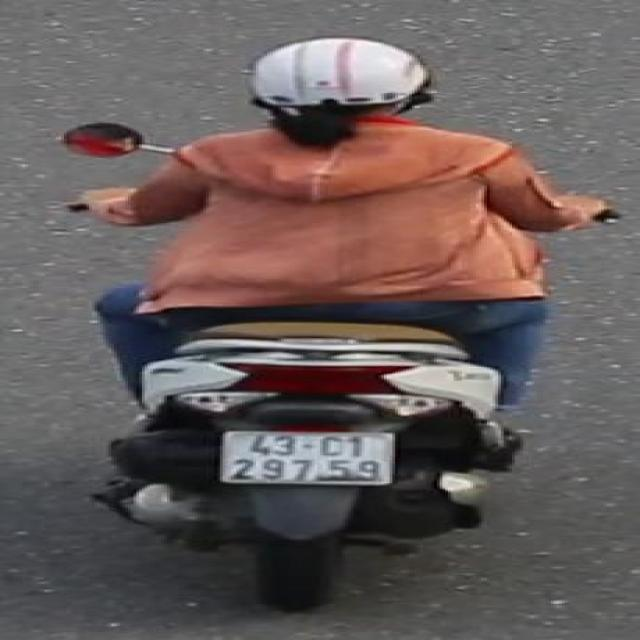LP: (217, 427, 406, 488)
helmet: (248, 33, 448, 144)
